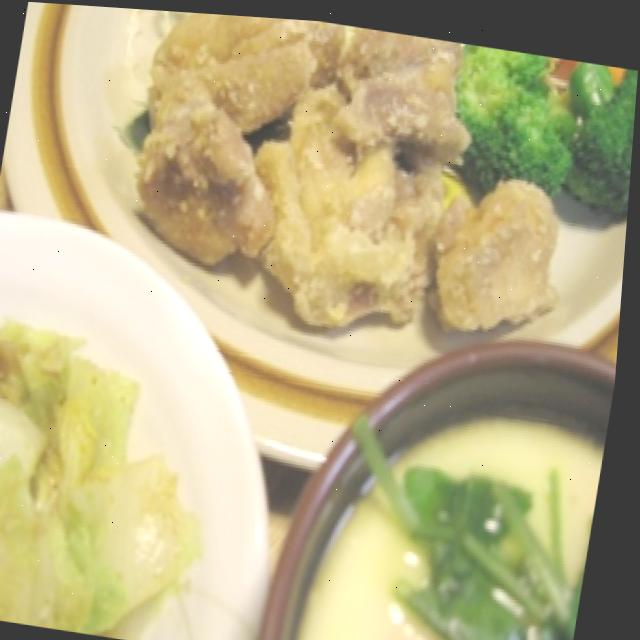鸡肉料理 含炸鸡: (67, 5, 605, 380)
